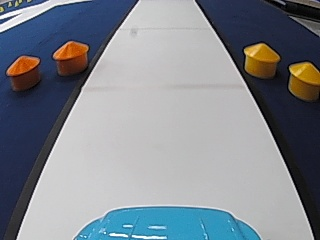granary: (241, 40, 281, 78), (50, 38, 88, 76), (285, 59, 319, 100), (5, 52, 40, 90)
